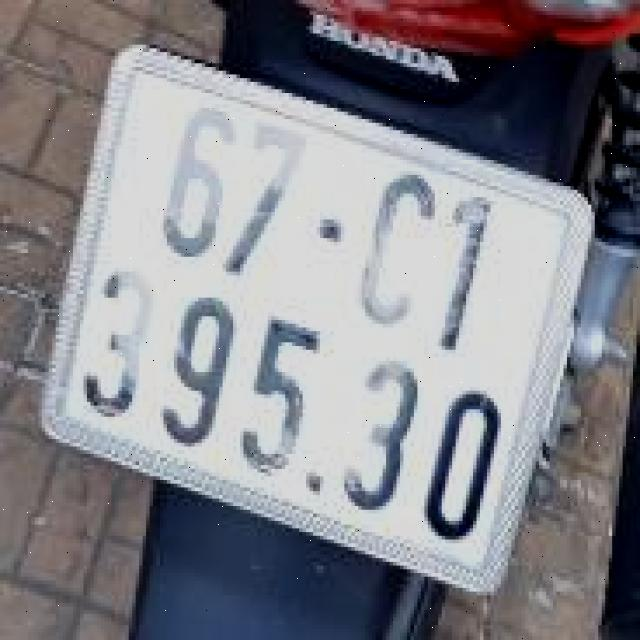0: (408, 370, 515, 558)
1: (409, 183, 525, 365)
3: (327, 344, 441, 528), (67, 255, 169, 431)
5: (224, 307, 340, 500)
6: (144, 99, 257, 275)
7: (206, 110, 330, 307)
9: (138, 282, 247, 459)
C: (340, 159, 461, 346)
